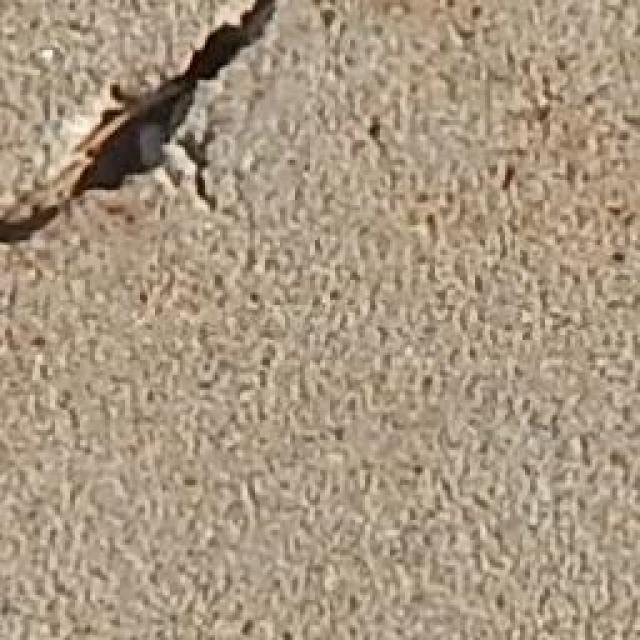concrete-crack: (0, 0, 283, 251)
